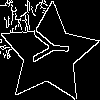Y: (24, 29, 70, 65)
